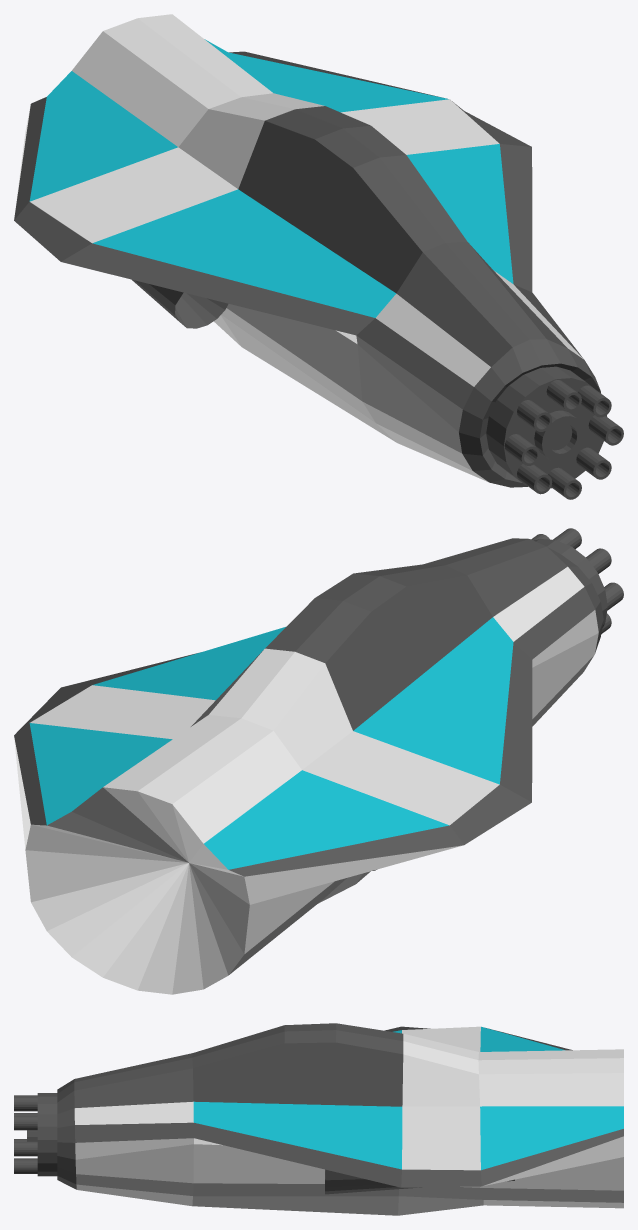
File: minigun_rocket 3.fbx
3 renders of one model, top to bottom at view 1: azimuth 30°, elevation 25°; view 2: azimuth 150°, elevation 25°; view 3: azimuth 270°, elevation 25°, orthographic. The views are drawn at different scales.
Visible parts, largest first — view 1: pCylinder2, pCylinder1, pCylinder5, pCylinder4, pCylinder19, pCylinder15, pCylinder9, pCylinder13, pCylinder11, pCylinder12, pCylinder14, pCylinder16 (+1 smaller); view 2: pCylinder2, pCylinder1, pCylinder5; view 3: pCylinder1, pCylinder2, pCylinder5, pCylinder3, pCylinder9, pCylinder12, pCylinder16, pCylinder15.
Boxes of the visible parts, x1,y1,x2,y2 form: pCylinder2: (14, 18, 541, 487); pCylinder1: (138, 14, 600, 393); pCylinder5: (486, 366, 606, 488); pCylinder4: (132, 279, 228, 328); pCylinder19: (534, 410, 584, 462); pCylinder15: (576, 447, 611, 479); pCylinder9: (546, 380, 581, 411); pCylinder13: (517, 400, 552, 431); pCylinder11: (504, 434, 539, 465); pCylinder12: (588, 415, 623, 445); pCylinder14: (517, 464, 552, 494); pCylinder16: (577, 385, 611, 417); pCylinder2: (137, 539, 603, 994); pCylinder1: (14, 538, 528, 990); pCylinder5: (534, 539, 607, 627); pCylinder1: (57, 1030, 623, 1215); pCylinder2: (57, 1023, 623, 1093); pCylinder5: (37, 1093, 57, 1176); pCylinder3: (325, 1169, 514, 1194); pCylinder9: (14, 1096, 37, 1111); pCylinder12: (14, 1141, 37, 1156); pCylinder16: (14, 1115, 37, 1130); pCylinder15: (14, 1159, 37, 1173).
Size of the model in its own units: 11.22 by 5.75 by 17.94.
